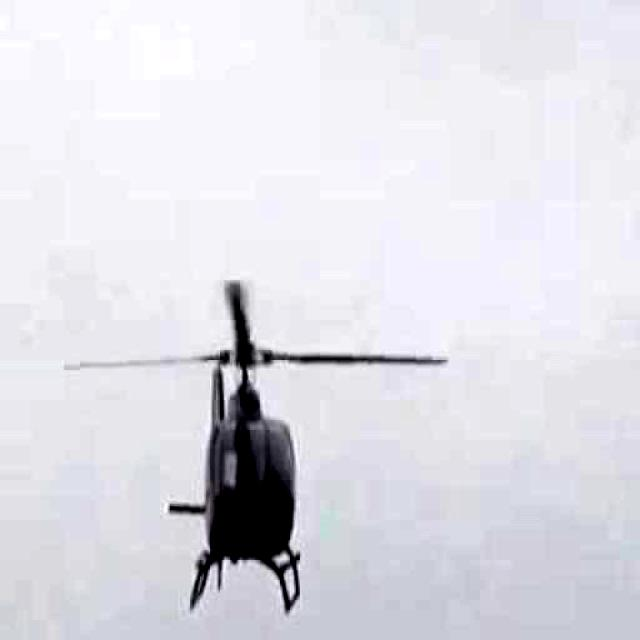drone: (22, 145, 474, 640)
